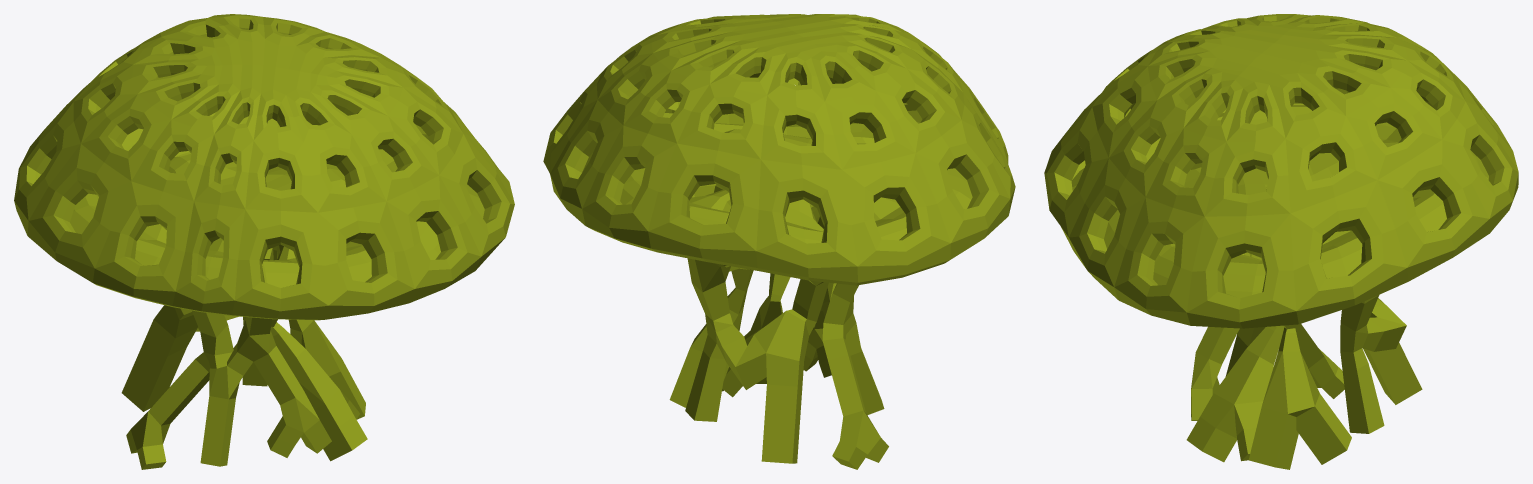
Rendered from alien mushroom.fbx.
3 renders of one model, left to right at view 1: azimuth 30°, elevation 25°; view 2: azimuth 150°, elevation 25°; view 3: azimuth 270°, elevation 25°, orthographic.
Visible parts, largest first — view 1: Cube.001, Cube; view 2: Cube.001, Cube; view 3: Cube.001, Cube.
Part boxes in pixels (x1,y1,x2,y2): Cube.001: (14, 14, 514, 320); Cube: (121, 248, 367, 469); Cube.001: (543, 14, 1015, 285); Cube: (669, 216, 888, 469); Cube.001: (1044, 14, 1518, 328); Cube: (1186, 254, 1422, 469).
Bounding box in the file's own units: 7.96 × 7.05 × 7.59.
